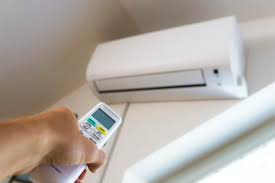ac: (86, 14, 252, 107)
